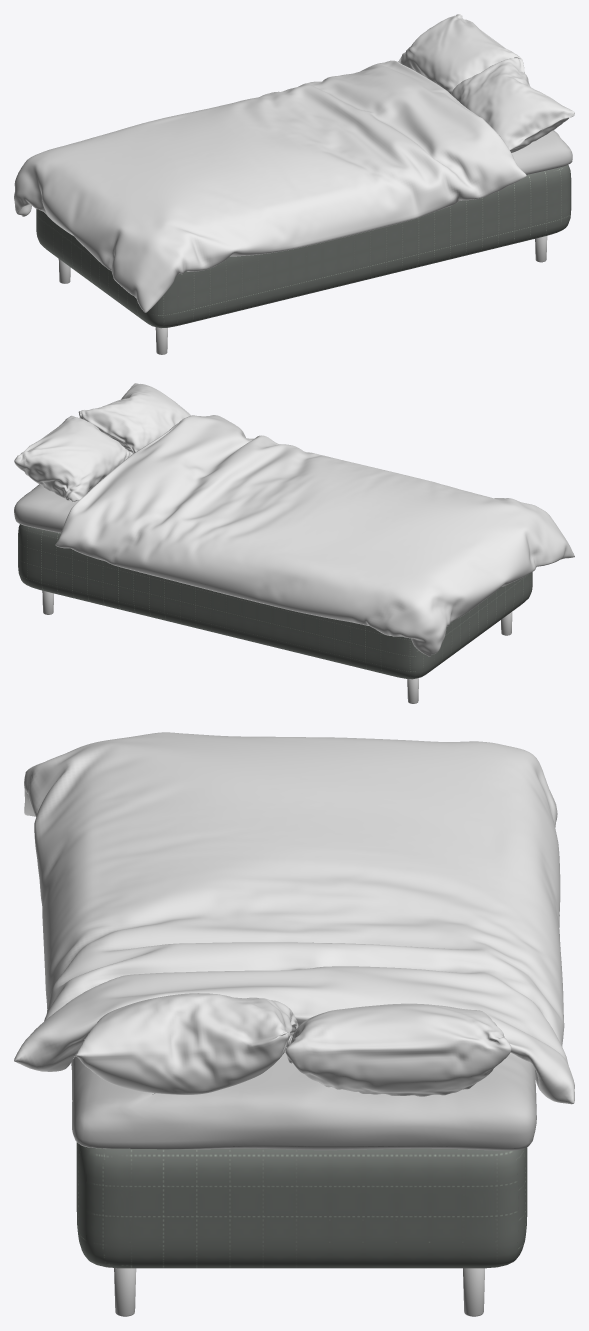
The model's file is bed.fbx.
3 renders of one model, top to bottom at view 1: azimuth 30°, elevation 25°; view 2: azimuth 150°, elevation 25°; view 3: azimuth 270°, elevation 25°, orthographic. The views are drawn at different scales.
Parts seen in each view (by area): view 1: Plane.022, Cube.001, Cube.042, Cube.045, Cube.002, Cylinder.016; view 2: Plane.022, Cube.001, Cube.045, Cube.042, Cube.002, Cylinder.016; view 3: Plane.022, Cube.001, Cube.002, Cube.042, Cube.045, Cylinder.016.
Boxes of the visible parts, x1,y1,x2,y2 form: Plane.022: [14, 60, 526, 312]; Cube.001: [36, 165, 571, 328]; Cube.042: [451, 57, 574, 152]; Cube.045: [398, 14, 522, 93]; Cube.002: [511, 130, 572, 174]; Cylinder.016: [58, 236, 547, 354]; Plane.022: [55, 415, 574, 656]; Cube.001: [18, 524, 532, 679]; Cube.045: [14, 415, 132, 502]; Cube.042: [78, 383, 190, 453]; Cube.002: [14, 484, 88, 533]; Cylinder.016: [42, 590, 512, 703]; Plane.022: [14, 732, 574, 1104]; Cube.001: [76, 1142, 527, 1268]; Cube.002: [71, 1049, 536, 1150]; Cube.042: [73, 993, 298, 1094]; Cube.045: [285, 1003, 511, 1096]; Cylinder.016: [114, 1268, 484, 1316].
Size of the model in its own units: 224 by 80.05 by 133.
